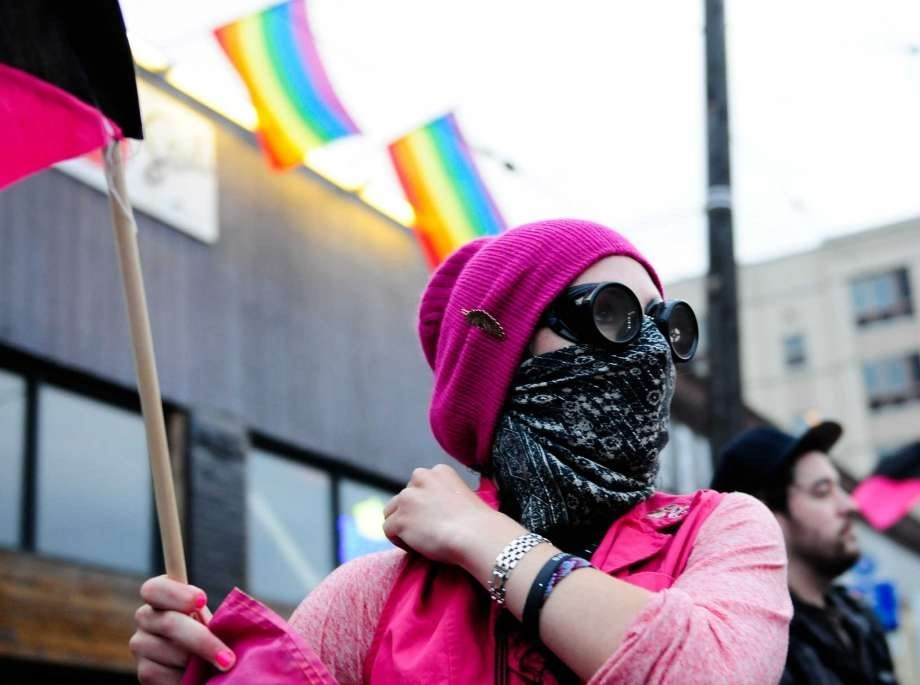face_with_mask: (440, 226, 693, 495)
